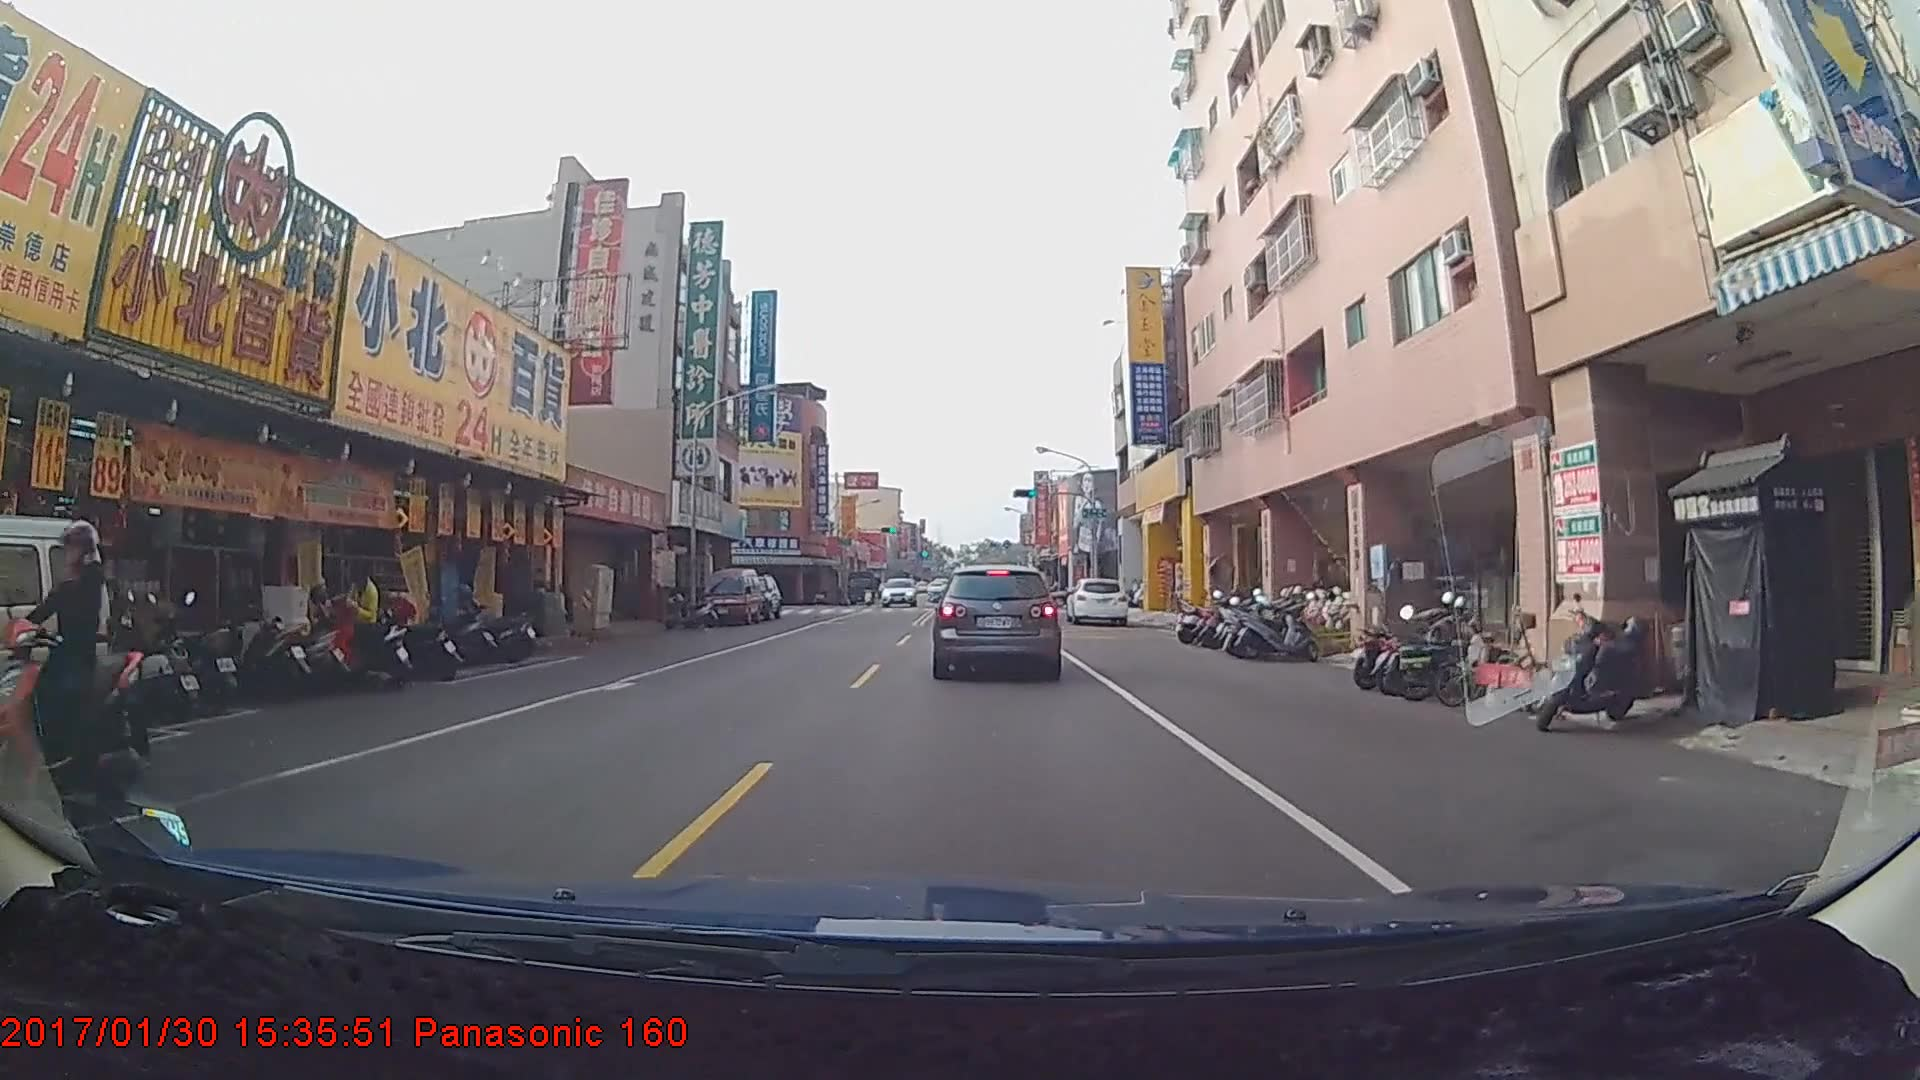pedestrian: (335, 561, 381, 666)
rider: (0, 524, 152, 830)
vehicle: (0, 516, 113, 763), (934, 562, 1062, 678), (701, 566, 761, 627), (1066, 577, 1129, 627), (876, 569, 919, 607)
